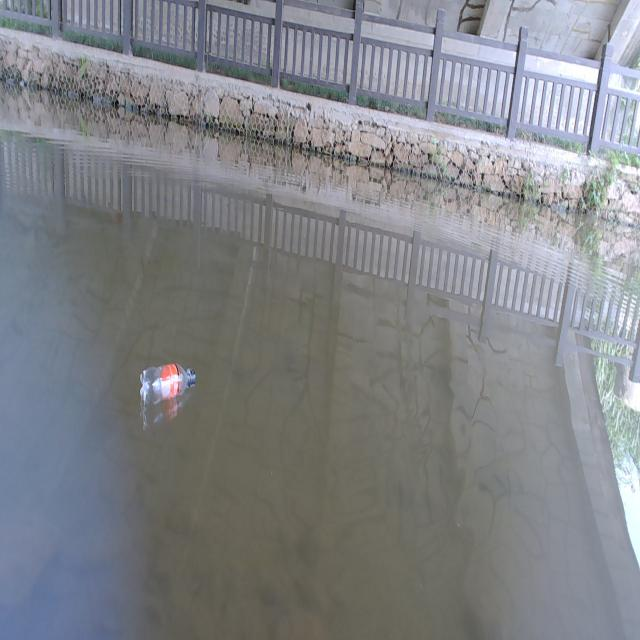Bottle: (137, 361, 198, 406)
